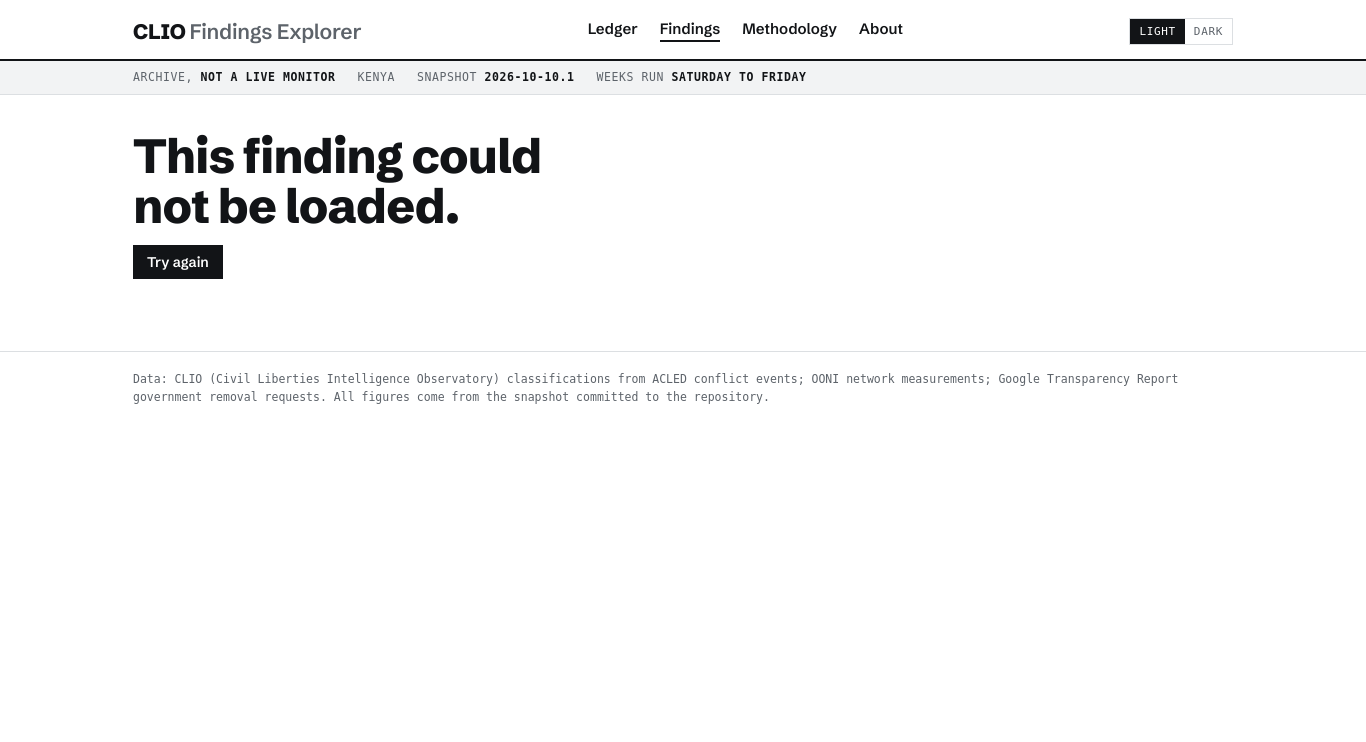
Test: errors › shows a retry for any other error, and loads on retry
This screenshot has width=1366, height=742.
Check: the heading "This finding could not be loaded." is shown, box [133,126,542,235]
Step 1. Click the button "Try again" → (178, 262), box [133,245,223,279]
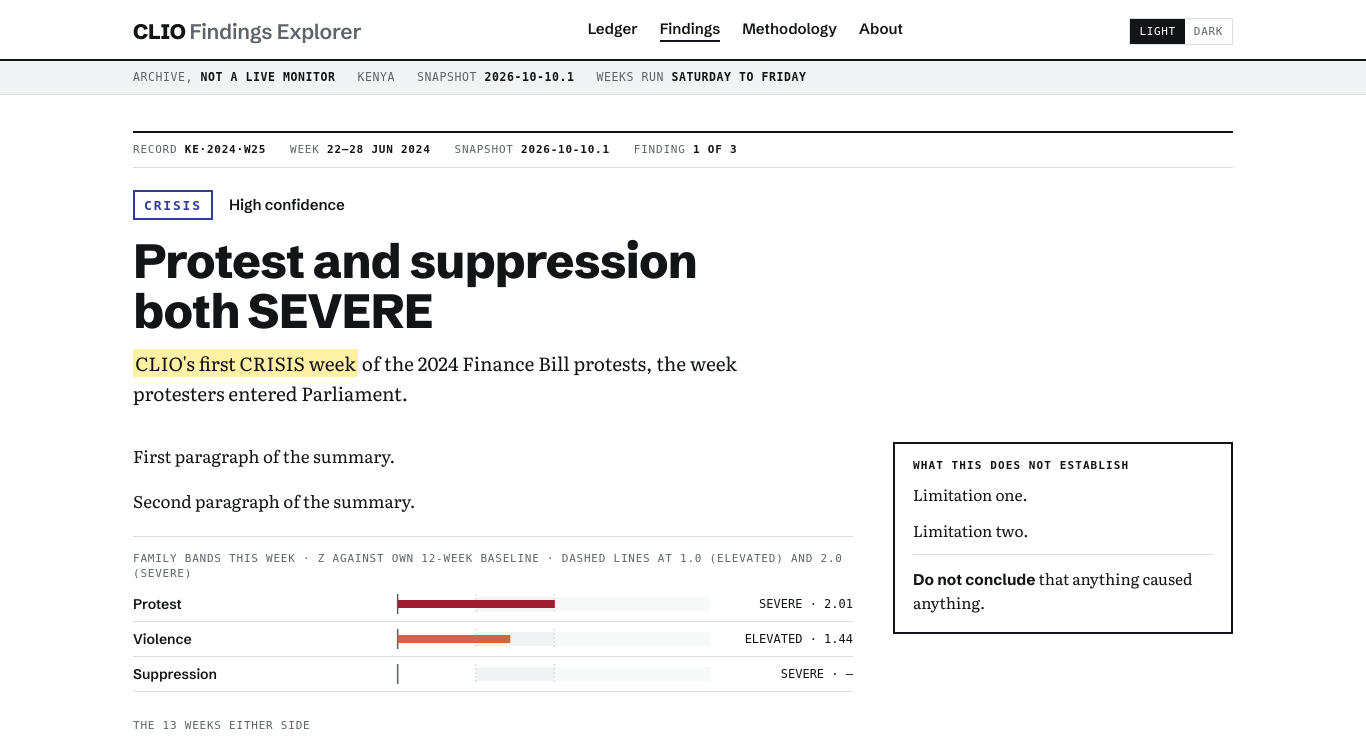
Check: the heading "Protest and suppression both SEVERE" is shown, box [133,231,697,340]
